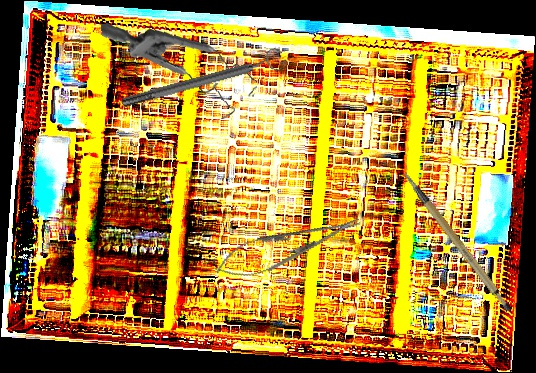Fixation Ring: (118, 45, 287, 115)
Needle Holder: (210, 204, 366, 289)
Scalpel Handle: (402, 158, 516, 324)
Speculum: (100, 8, 261, 131)
